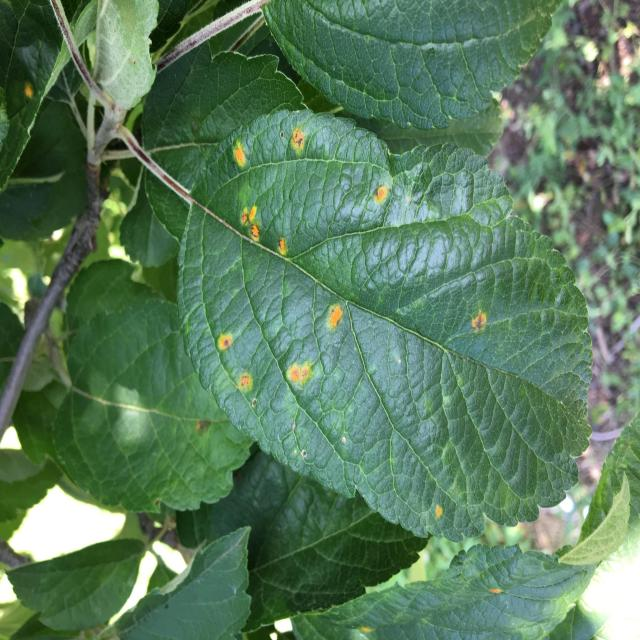Rust: (282, 353, 320, 389), (327, 296, 348, 336), (228, 142, 254, 174), (290, 125, 310, 160), (373, 179, 391, 215), (430, 500, 450, 530), (215, 328, 237, 352), (236, 371, 256, 396), (468, 312, 487, 338), (19, 82, 39, 106), (234, 202, 250, 228), (358, 622, 380, 640), (487, 582, 506, 598), (249, 225, 263, 244), (277, 233, 287, 259), (246, 203, 260, 219)
